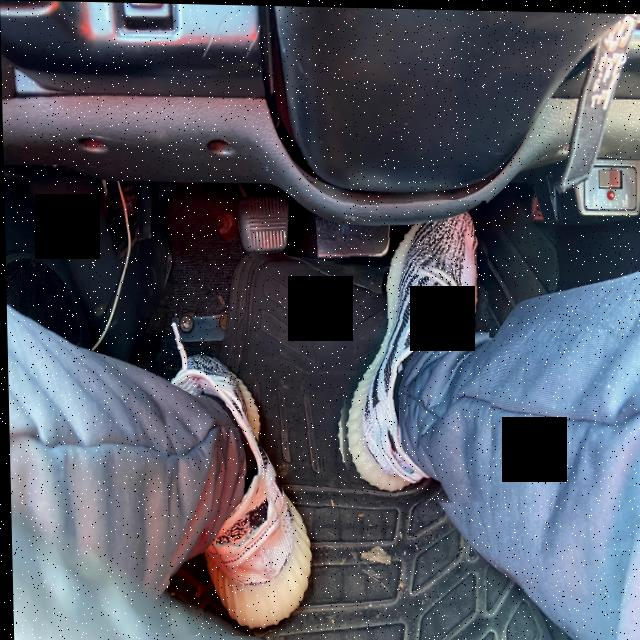shoe: (162, 314, 327, 637), (327, 196, 491, 505)
